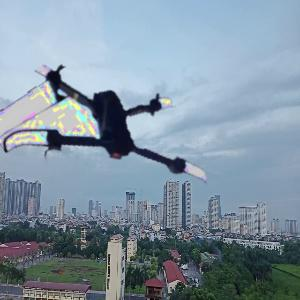drone: (15, 38, 212, 235)
